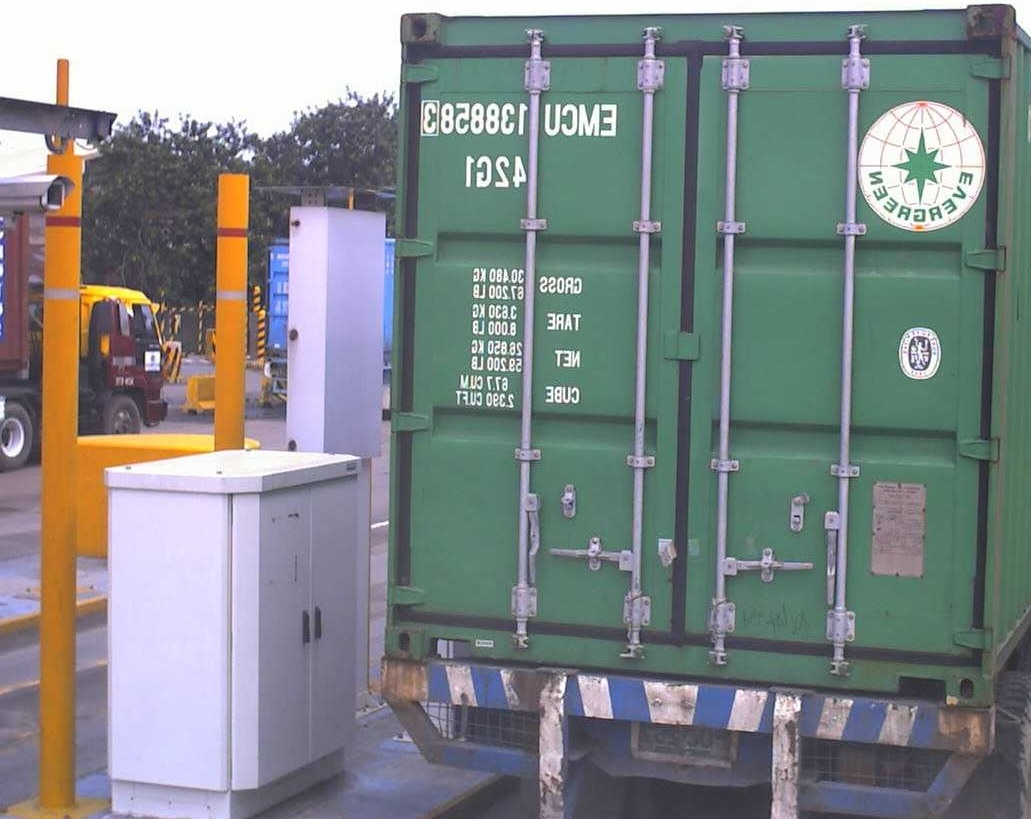container_door: (382, 2, 1001, 705)
